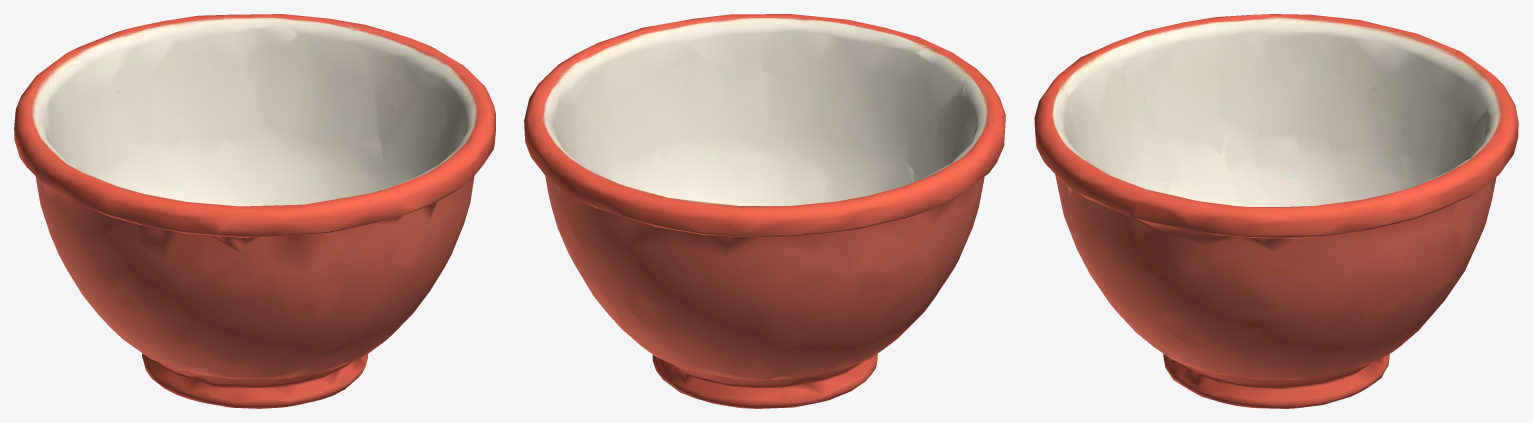
File: SM_Kitchen_MixingBowl.glb
The picture shows the model from 3 angles, left to right: view 1: azimuth 30°, elevation 25°; view 2: azimuth 150°, elevation 25°; view 3: azimuth 270°, elevation 25°; orthographic projection.
Visible parts, largest first — view 1: tripo_node_baabd863-e8c8-4f2e-8553-d917215805bb; view 2: tripo_node_baabd863-e8c8-4f2e-8553-d917215805bb; view 3: tripo_node_baabd863-e8c8-4f2e-8553-d917215805bb.
Boxes of the visible parts, bbox=[...] form: tripo_node_baabd863-e8c8-4f2e-8553-d917215805bb: bbox=[14, 14, 495, 408]; tripo_node_baabd863-e8c8-4f2e-8553-d917215805bb: bbox=[524, 14, 1005, 408]; tripo_node_baabd863-e8c8-4f2e-8553-d917215805bb: bbox=[1034, 14, 1518, 408].
Bounding box in the file's own units: 0.9996 × 0.577 × 1.
1 material, 1 textured.
